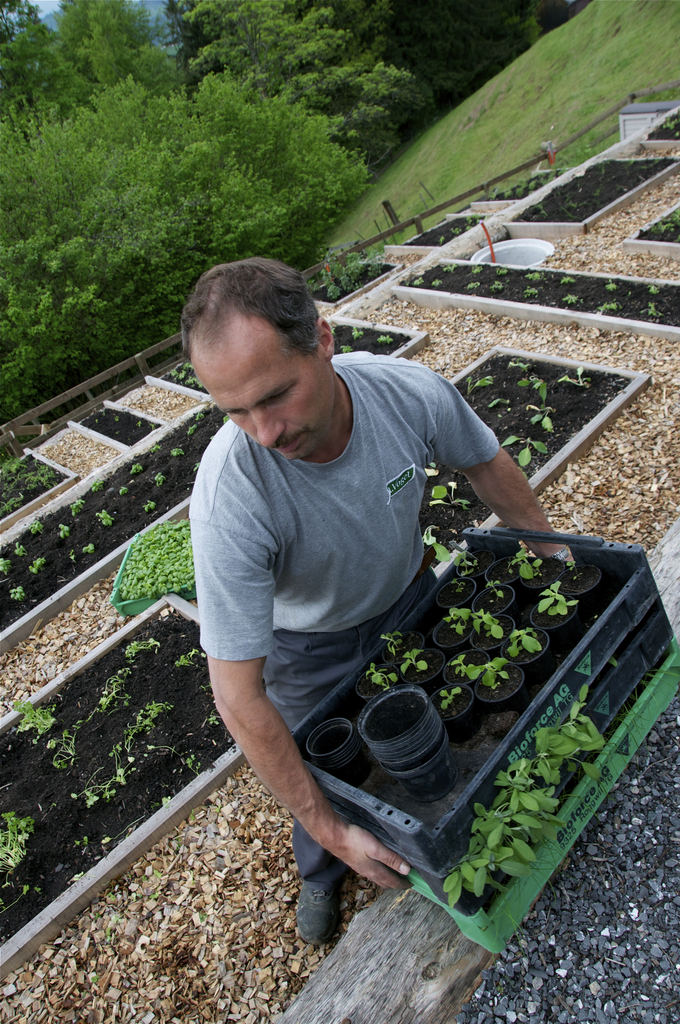Tree: (0, 0, 569, 459)
